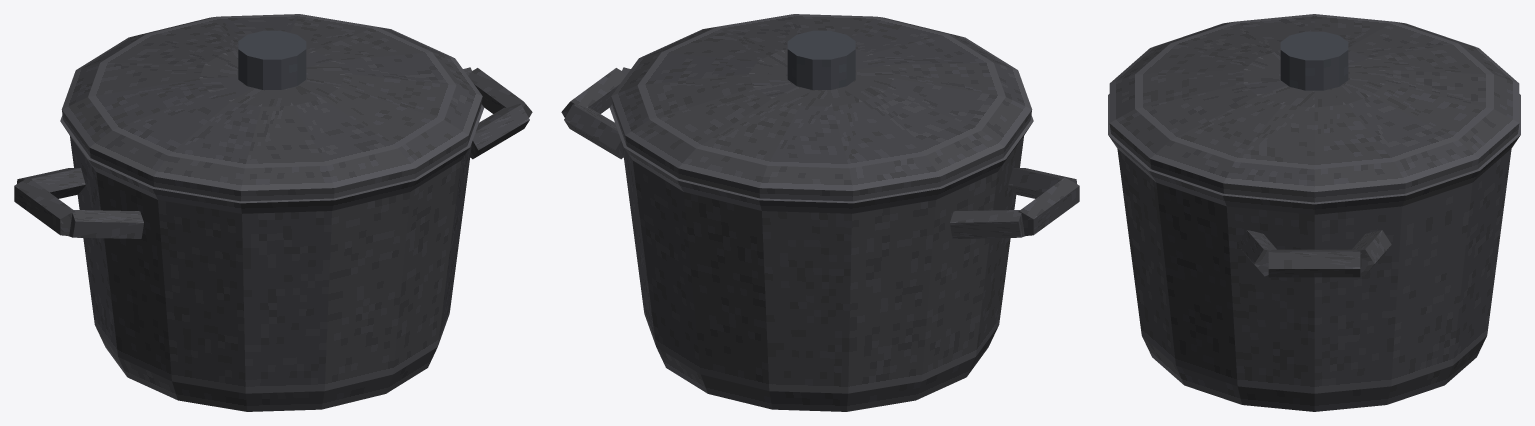
The model's file is dutch_oven.glb.
3 renders of one model, left to right at view 1: azimuth 30°, elevation 25°; view 2: azimuth 150°, elevation 25°; view 3: azimuth 270°, elevation 25°, orthographic.
Visible parts, largest first — view 1: block_open vessel, block_domed lid, block_side handle 2 (×2), block_handle knob, block_side handle 1 (×2), block_side handle 0; view 2: block_open vessel, block_domed lid, block_side handle 0 (×2), block_handle knob, block_side handle 1 (×2), block_side handle 2; view 3: block_open vessel, block_domed lid, block_handle knob, block_side handle 1, block_side handle 0, block_side handle 2.
Boxes of the visible parts, x1=… form: block_open vessel: x1=60, y1=104, x2=484, y2=411; block_domed lid: x1=61, y1=14, x2=482, y2=201; block_side handle 2 (×2): x1=68, y1=104, x2=529, y2=238; block_handle knob: x1=238, y1=30, x2=306, y2=89; block_side handle 1 (×2): x1=14, y1=68, x2=532, y2=235; block_side handle 0: x1=17, y1=168, x2=85, y2=198; block_open vessel: x1=609, y1=104, x2=1033, y2=411; block_domed lid: x1=611, y1=14, x2=1032, y2=201; block_side handle 0 (×2): x1=564, y1=104, x2=1025, y2=238; block_handle knob: x1=787, y1=30, x2=855, y2=89; block_side handle 1 (×2): x1=561, y1=68, x2=1079, y2=235; block_side handle 2: x1=1008, y1=168, x2=1076, y2=198; block_open vessel: x1=1108, y1=94, x2=1520, y2=411; block_domed lid: x1=1109, y1=14, x2=1519, y2=202; block_handle knob: x1=1280, y1=31, x2=1348, y2=90; block_side handle 1: x1=1268, y1=249, x2=1360, y2=277; block_side handle 0: x1=1352, y1=230, x2=1391, y2=276; block_side handle 2: x1=1237, y1=230, x2=1276, y2=276.
Size of the model in its own units: 0.31 by 0.1862 by 0.2357.
Materials: 2 (2 with a texture image).
